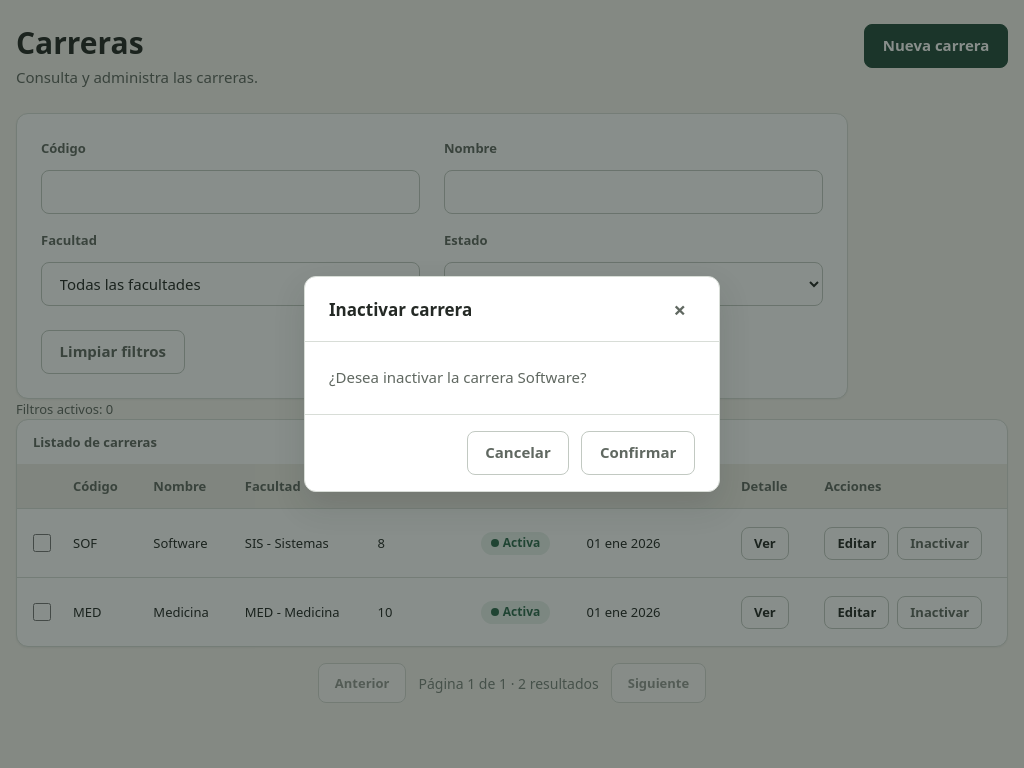
Test case: ListadoCarrerasComponent › muestra error de operación al inactivar
Click the button "Confirmar" at (638, 453), box [581, 431, 695, 475]
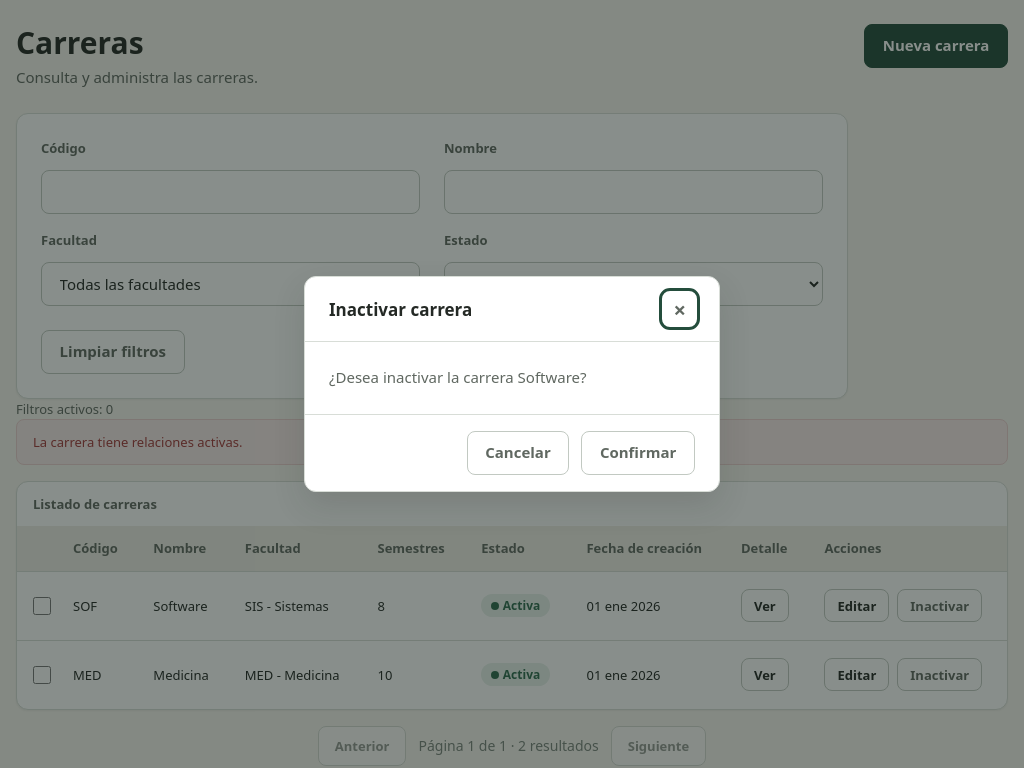
Expected: the text "La carrera tiene relaciones activas." is shown, [16, 419, 1008, 465]
